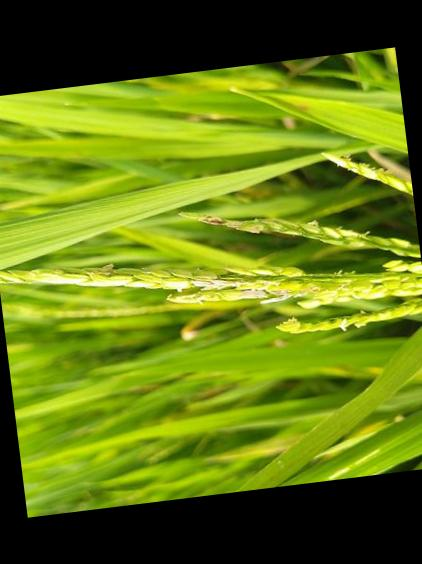Panicle Blight: (189, 211, 245, 228)
